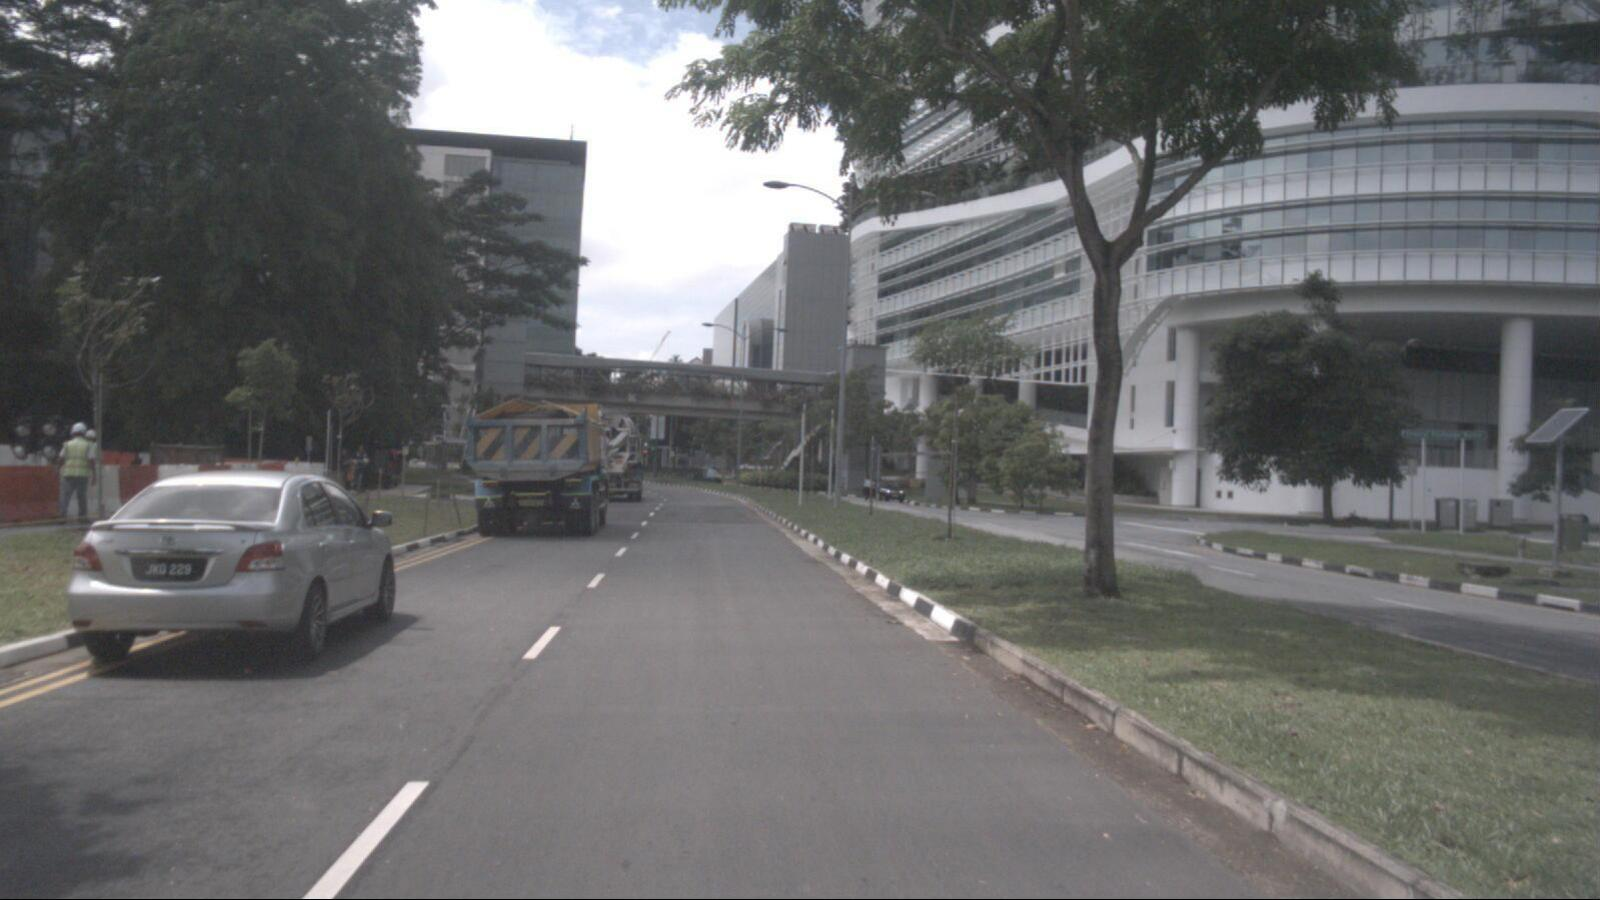human.pedestrian.construction_worker-pedestrian.moving: (55, 424, 98, 526), (349, 444, 370, 493)
human.pedestrian.construction_worker-pedestrian.standing: (71, 428, 103, 518), (339, 448, 358, 492)
